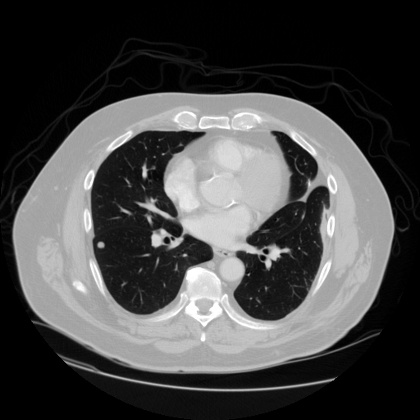PN: (96, 241, 104, 249)
